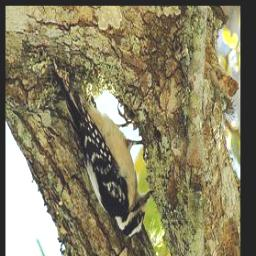Woodpecker: (50, 63, 155, 248)
